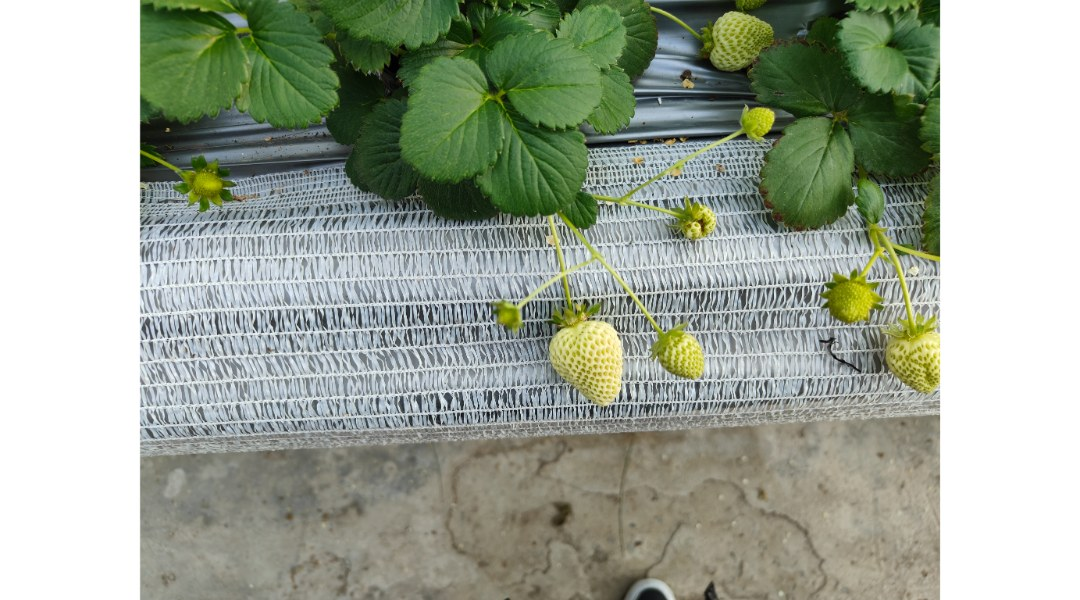berry: (536, 301, 631, 413), (892, 307, 938, 413), (705, 9, 776, 75), (172, 158, 238, 224), (655, 313, 708, 387), (822, 268, 879, 320), (675, 195, 721, 240), (734, 101, 770, 153), (492, 289, 525, 339)
strain: (626, 135, 739, 199), (601, 255, 671, 331), (550, 220, 576, 320), (885, 229, 907, 335), (585, 195, 680, 219), (897, 237, 971, 259)
